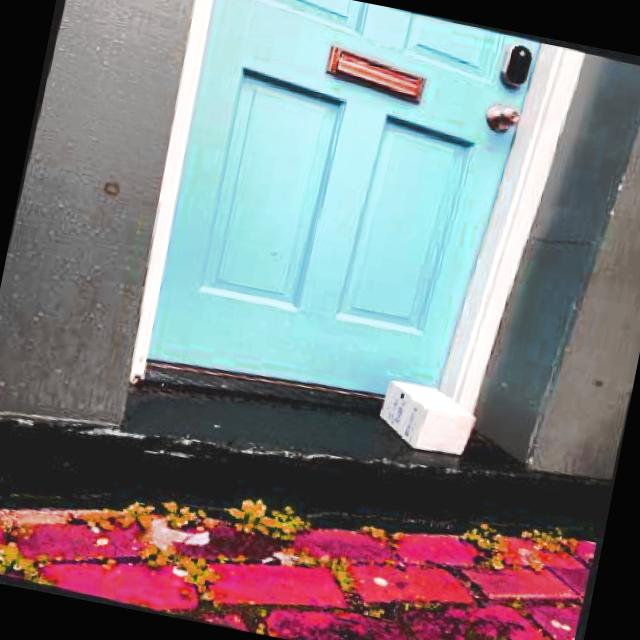Box: (370, 373, 487, 466)
